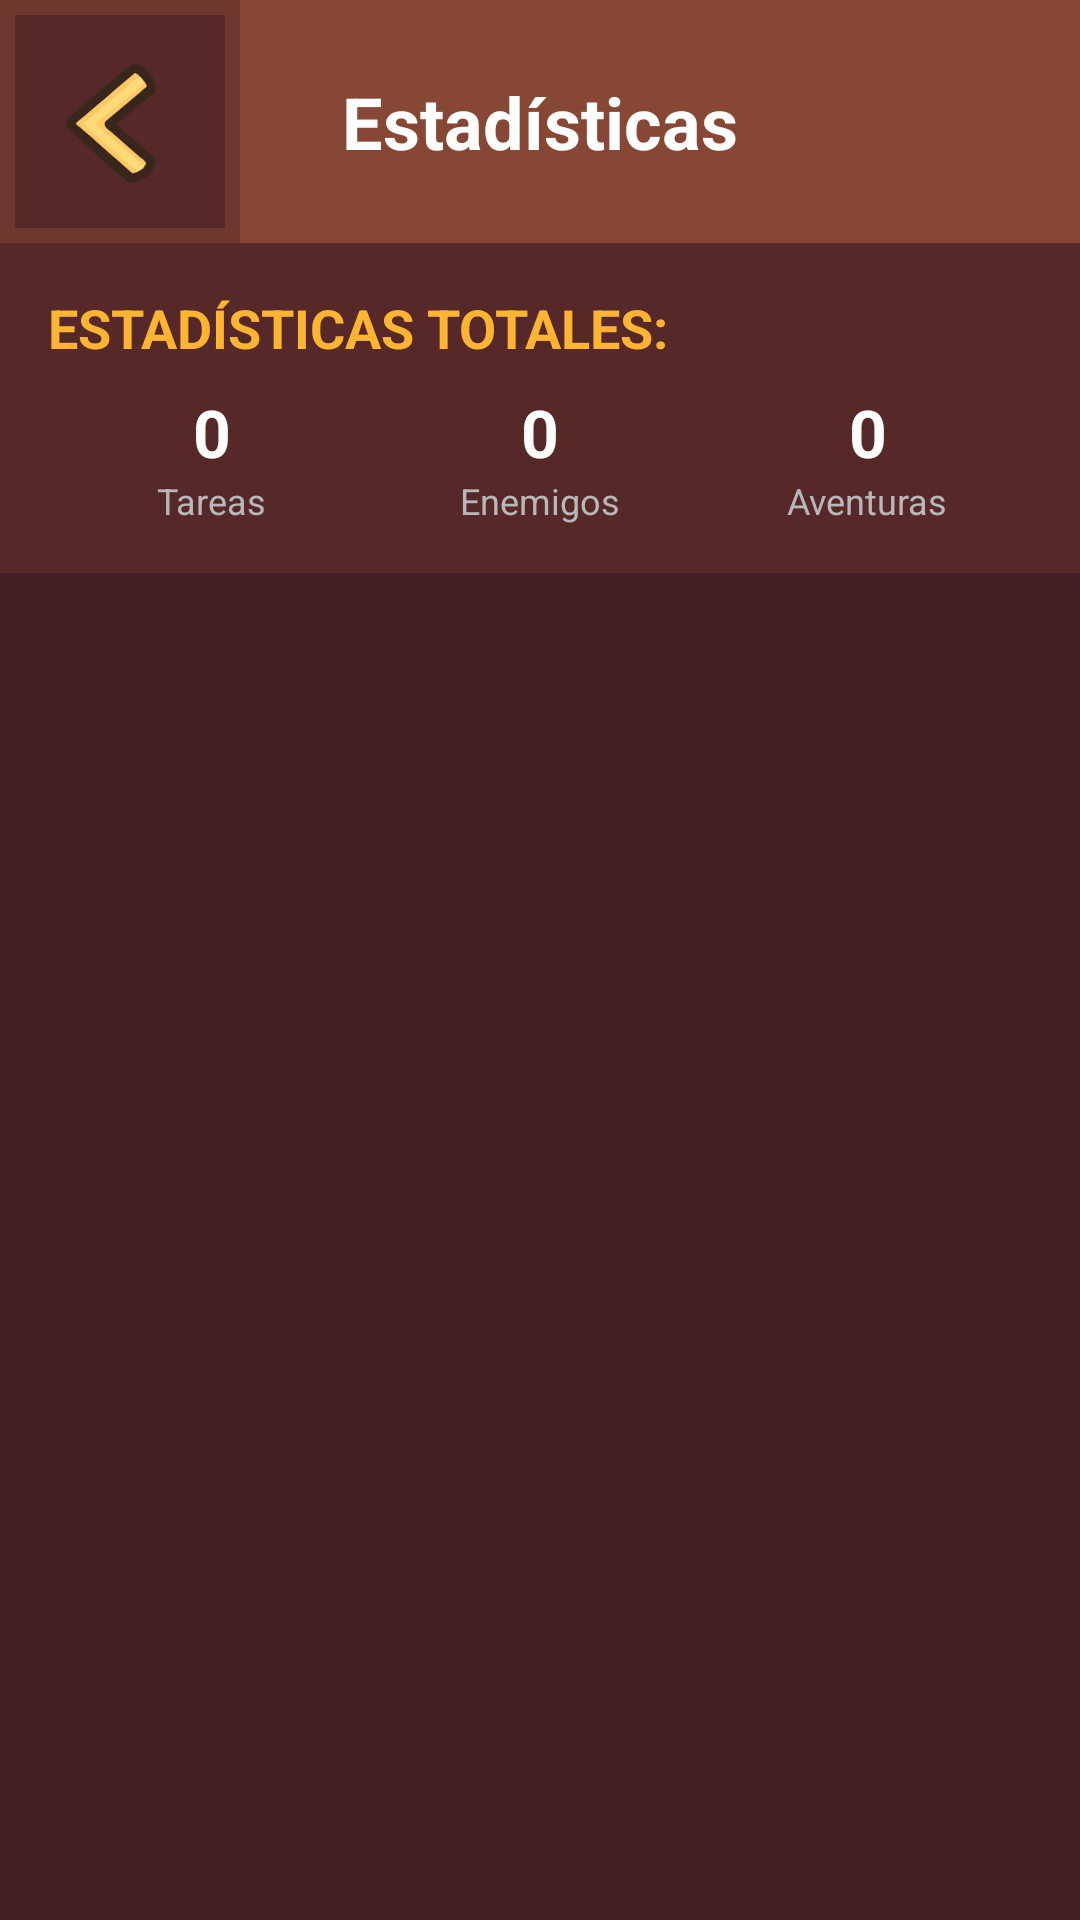

Icon bounding boxes for this 1080x1920 phone screenshot, format (x1, y1, x2, y2):
Volver atras: (65, 62, 158, 184)
